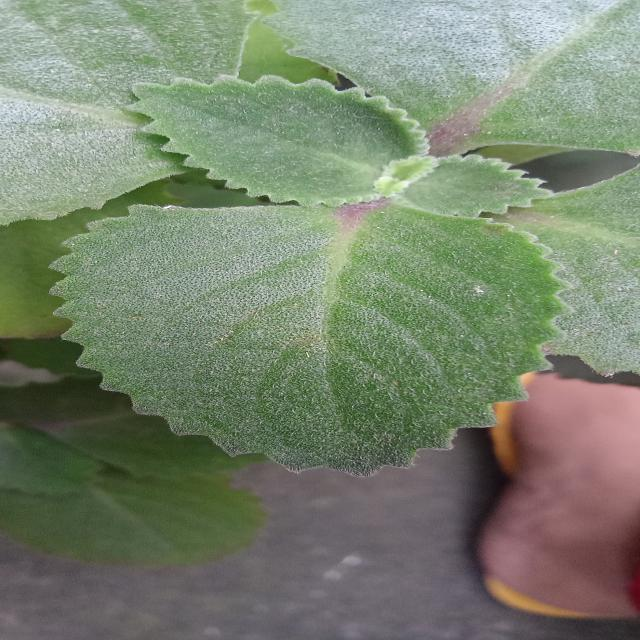Oregano: (42, 74, 599, 480)
